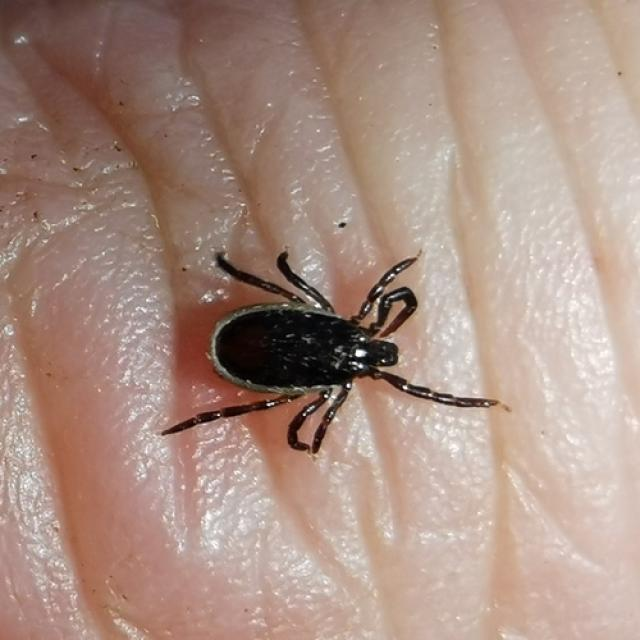Ixodes Ricinus-M: (161, 250, 499, 456)
